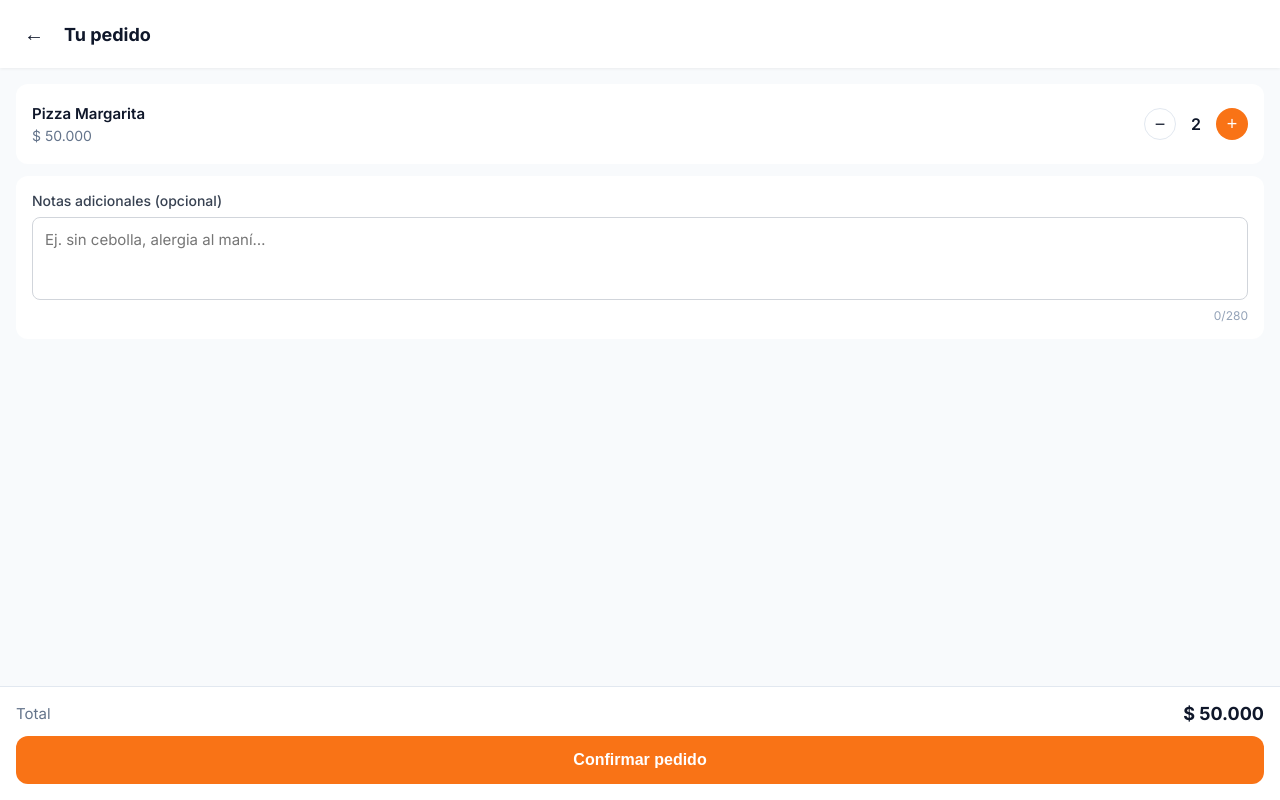
it: CartReview › removing last unit of an item removes it from the list
The image size is (1280, 800).
Click the button named "Reducir cantidad de Pizza Margarita": (1160, 124) [1144,108,1176,140]
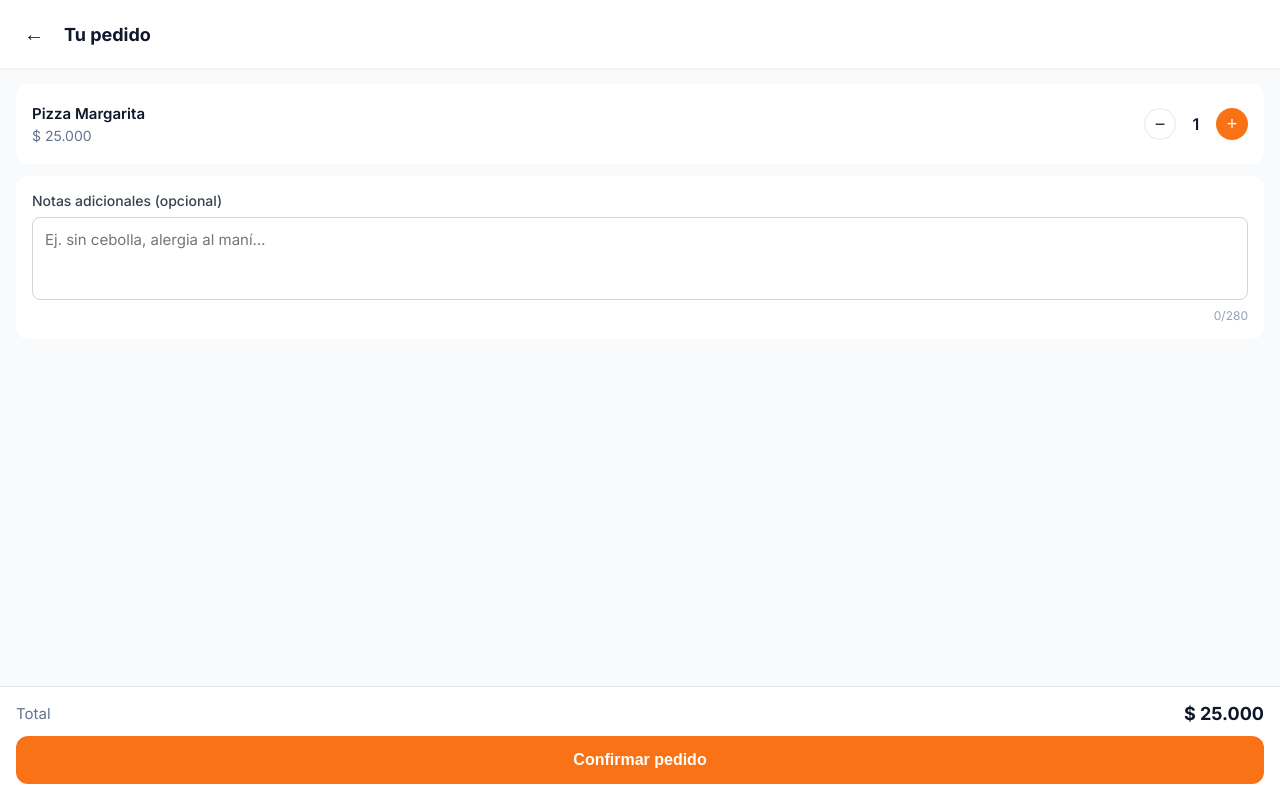
1 → 0 (item removed)
Click the button named "Reducir cantidad de Pizza Margarita": (1160, 124) [1144,108,1176,140]
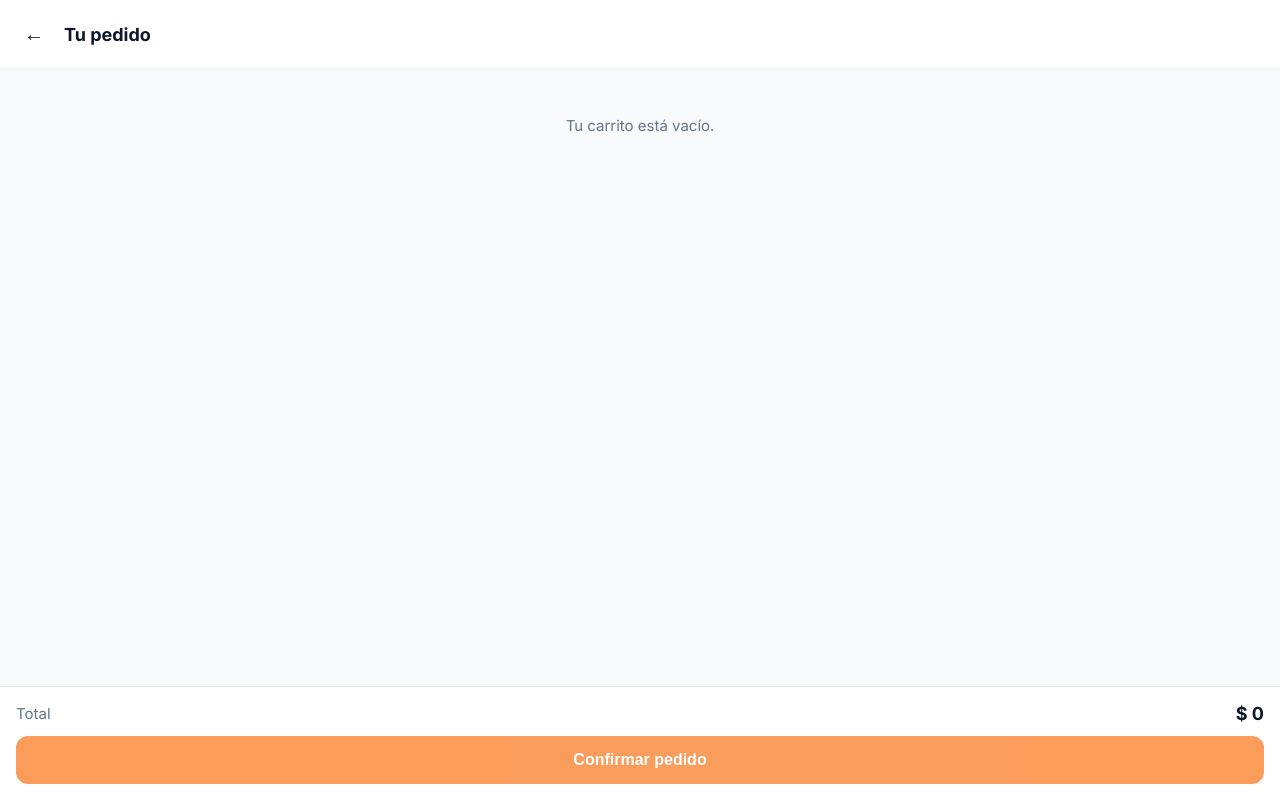
Check: the text "Pizza Margarita" is gone
Check: the text "Tu carrito está vacío." is shown, box [566,116,714,135]
